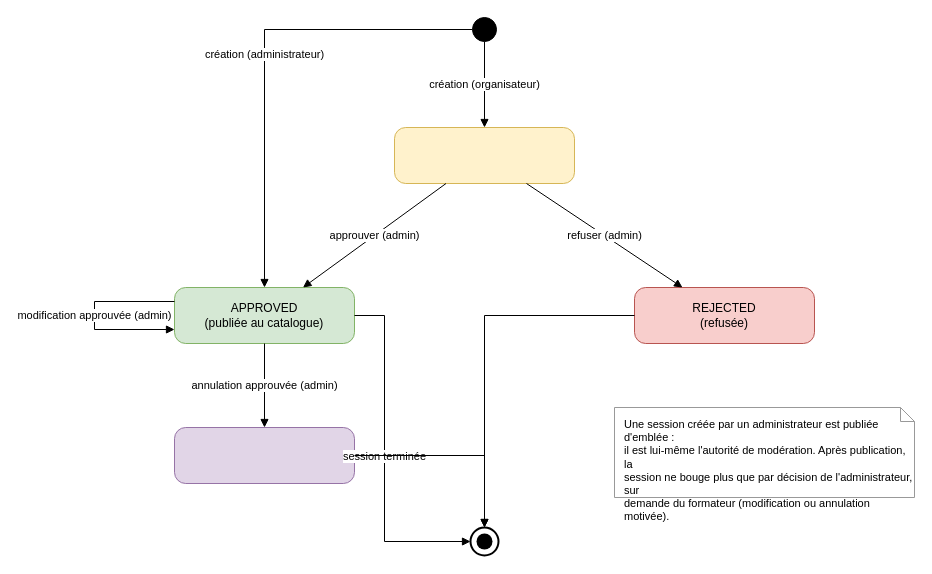
Some shapes in this 932 by 574 pixel diagram are drawn without their labels. Each missing label, with the centre of its shape:
CANCELLED (annulée, inscrits prévenus): the point at 264,455
PENDING (en attente de modération): the point at 484,155
